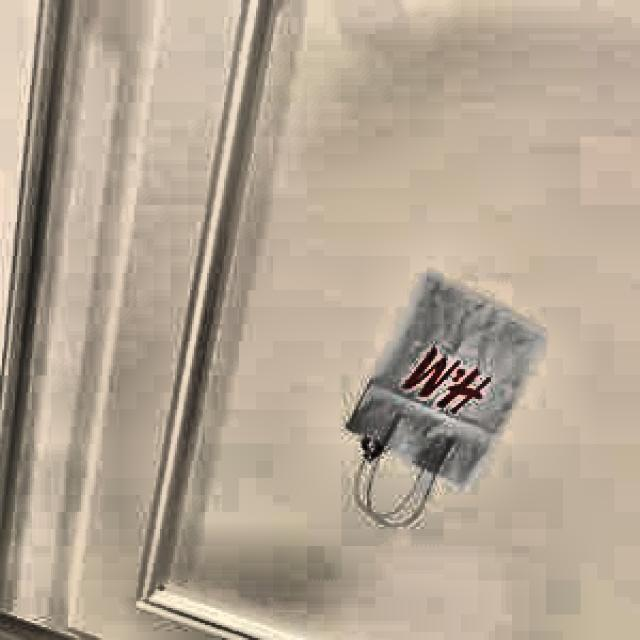Paper-bag: (339, 264, 547, 538)
